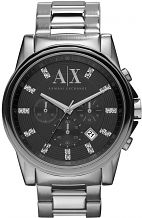watch: (1, 1, 142, 216)
